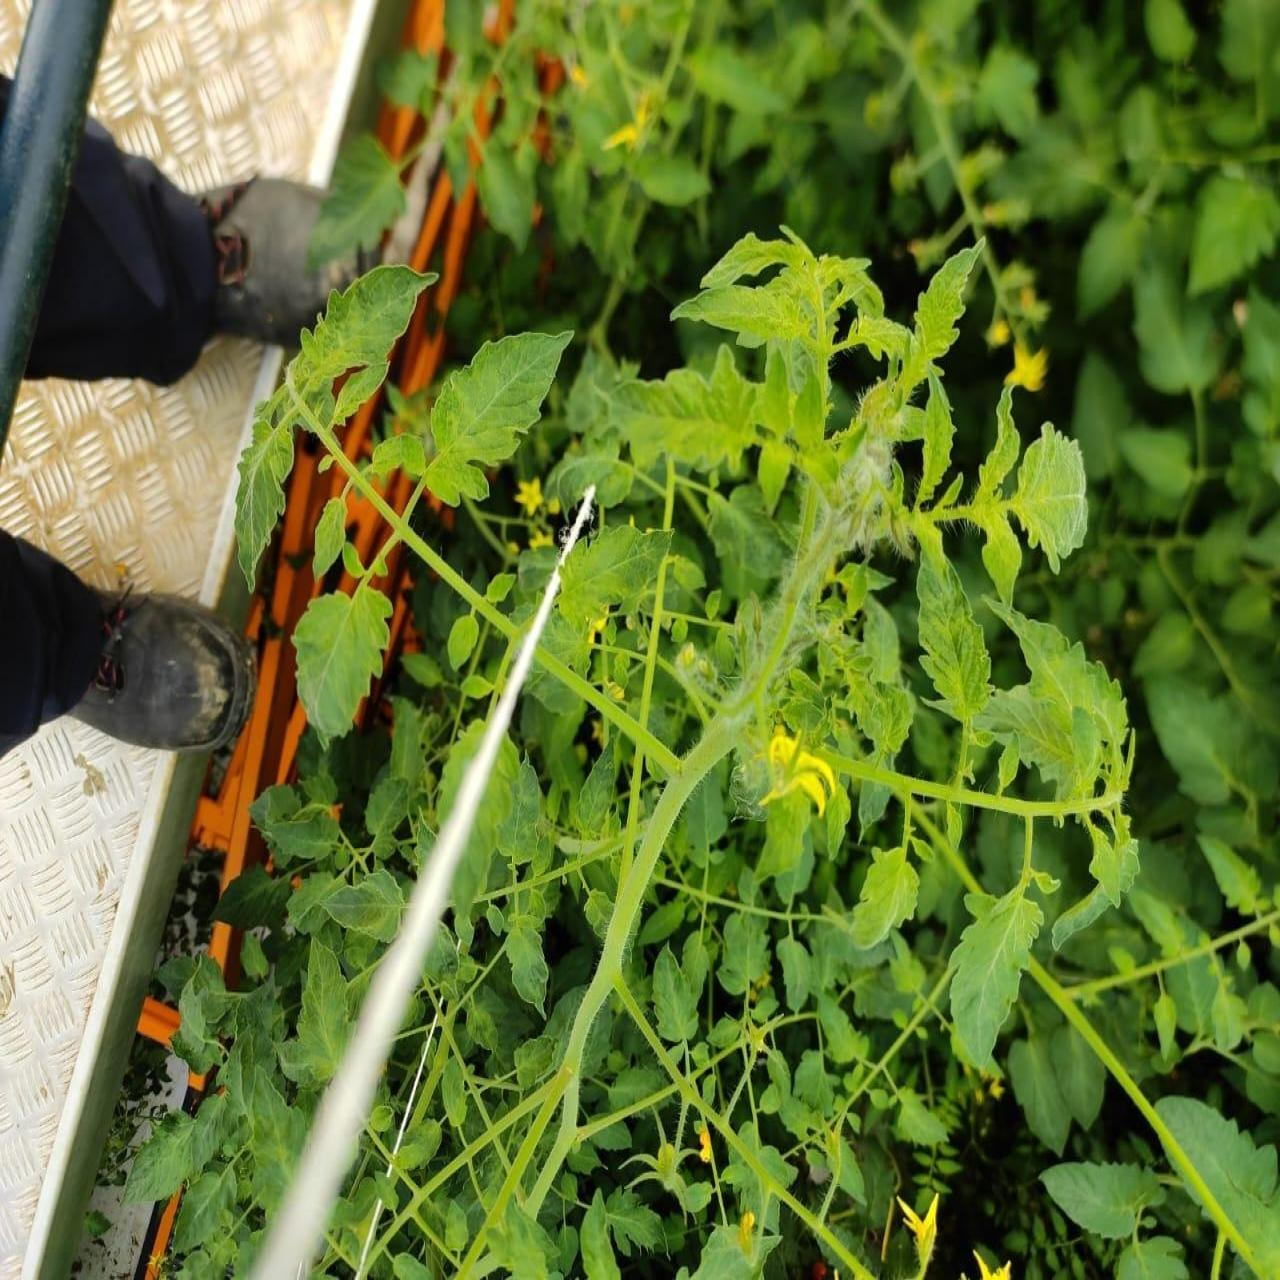T_L_H: (291, 585, 392, 743), (314, 501, 343, 576)
T_L_R: (425, 335, 571, 504), (301, 265, 436, 379), (919, 559, 990, 727), (236, 411, 297, 588)
T_S_R: (566, 777, 701, 1069)
